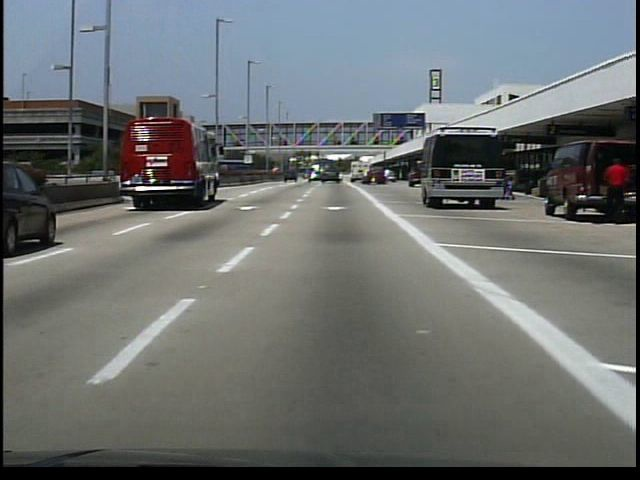person: (382, 167, 394, 188)
